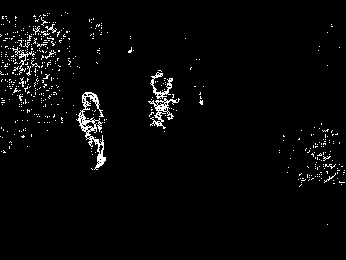person: (78, 89, 109, 172)
